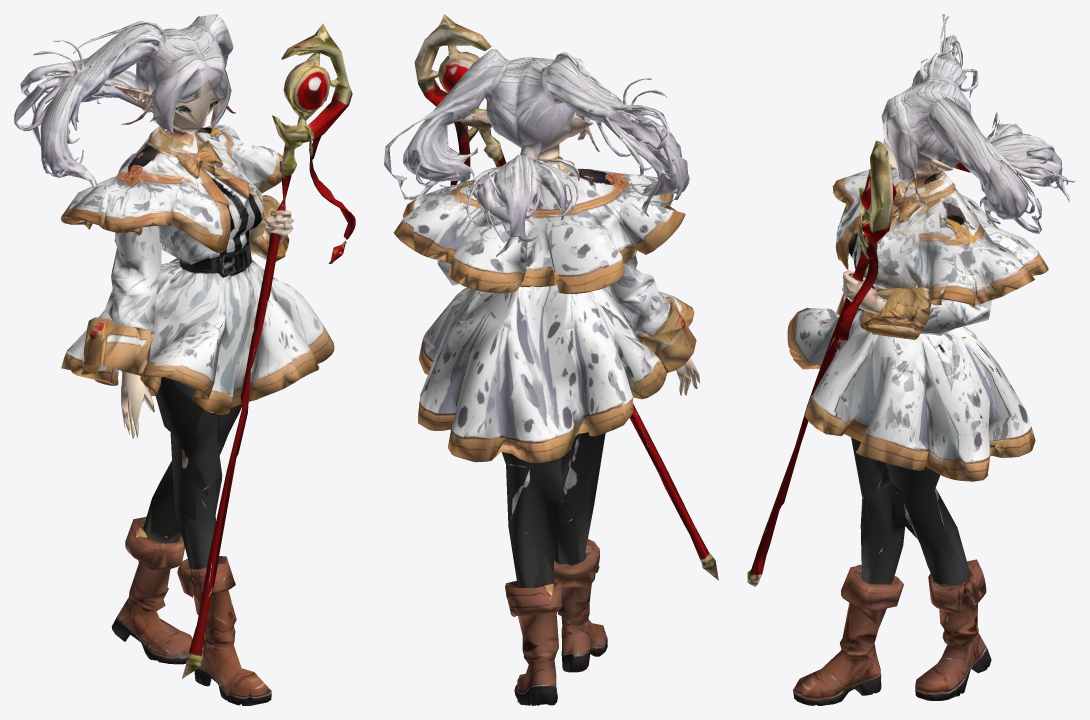
The model's file is raincaller.glb.
3 views of the same model, side by side, from view 1: azimuth 30°, elevation 25°; view 2: azimuth 150°, elevation 25°; view 3: azimuth 270°, elevation 25° (orthographic). The views are drawn at different scales.
Size of the model in its own units: 0.9081 by 1.9 by 0.9044.
Materials: 1 (1 with a texture image).
